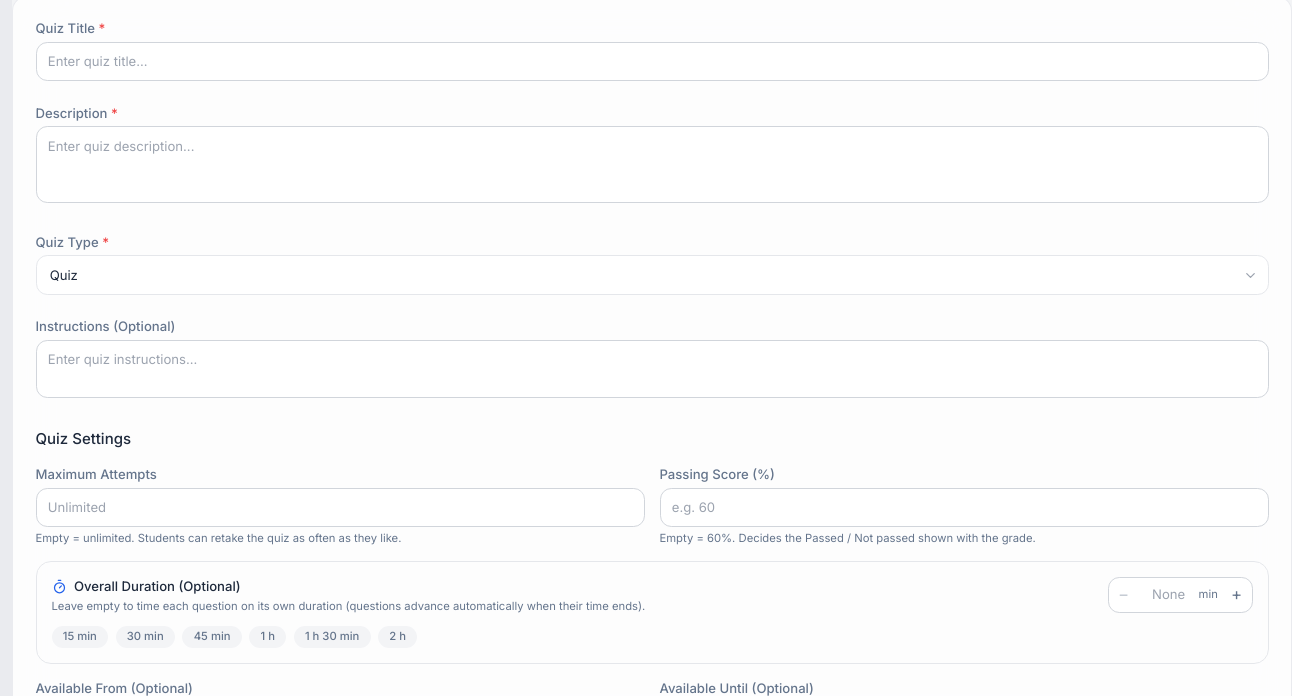
it: CreateQuizPage › surfaces server field errors inline and toasts
Type "Algebra" into the field labelled "Quiz Title *".
click(652, 62); type("Algebra")  # box x1=36 y1=42 x2=1268 y2=81
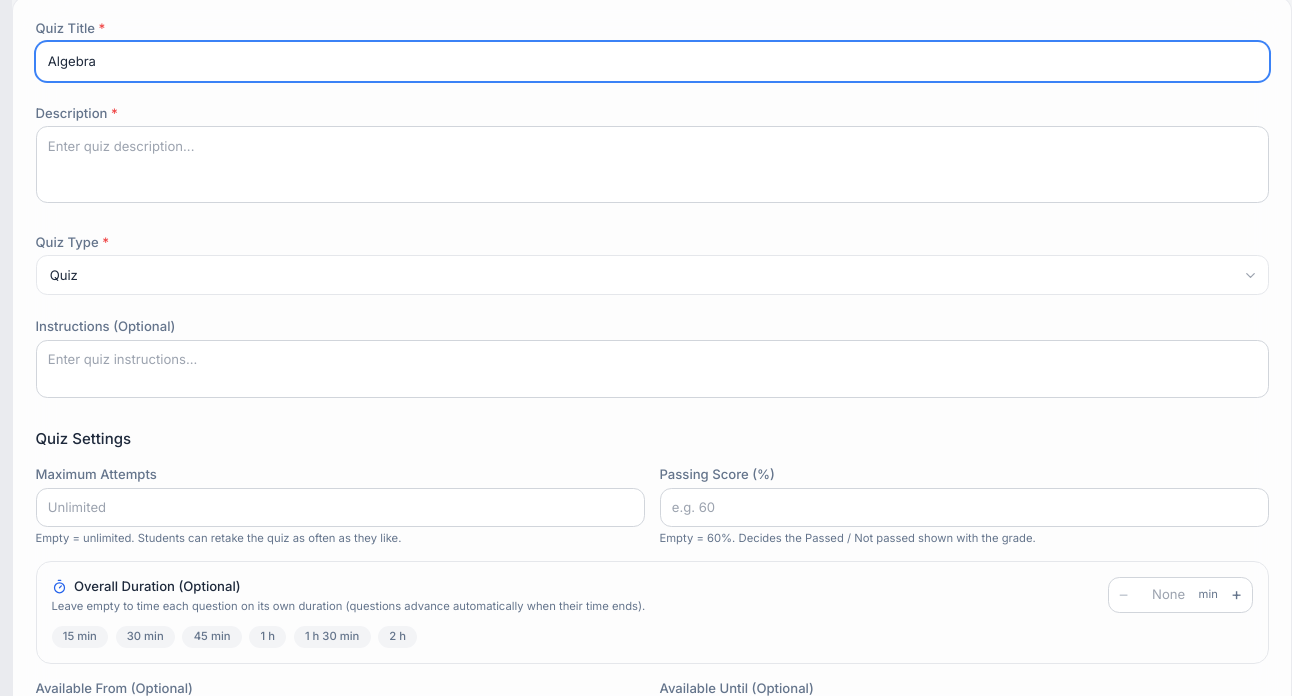
Type "Desc" into the text box labelled "Description *".
click(652, 165); type("Desc")  # box x1=36 y1=126 x2=1268 y2=203
(page scrolled)
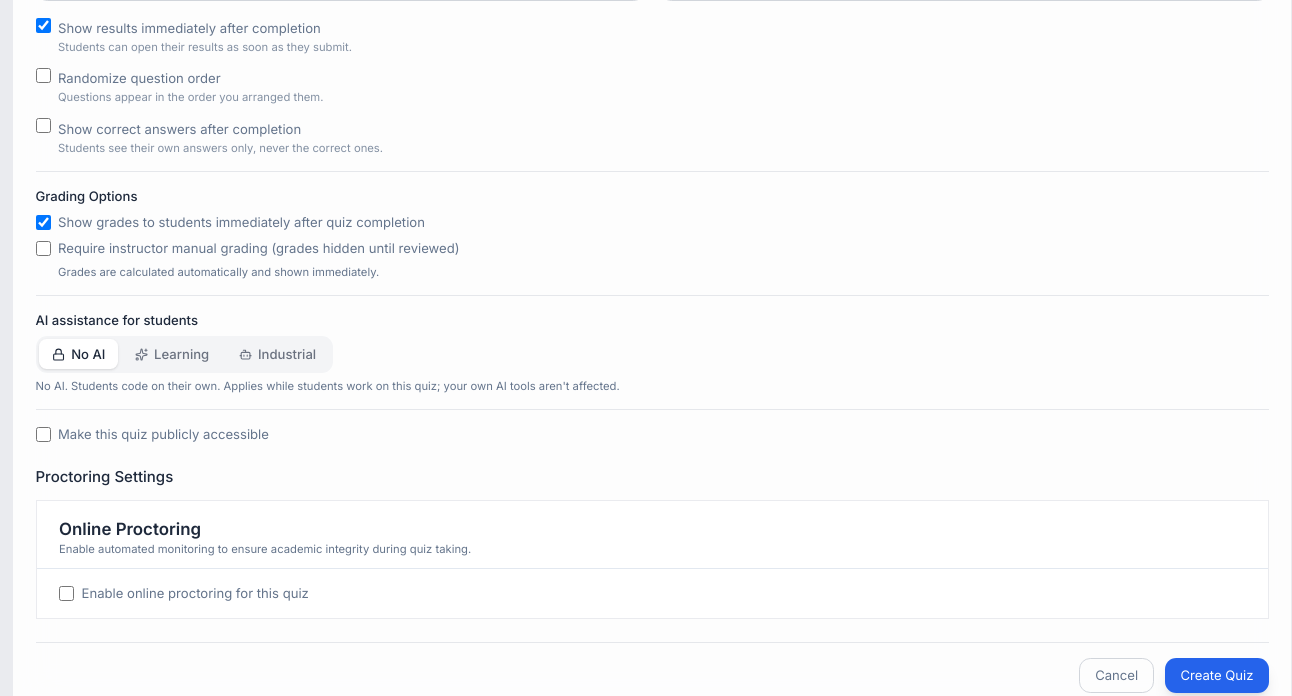
Click the button "Create Quiz".
click(1217, 675)  # box x1=1165 y1=658 x2=1268 y2=693
(page scrolled)
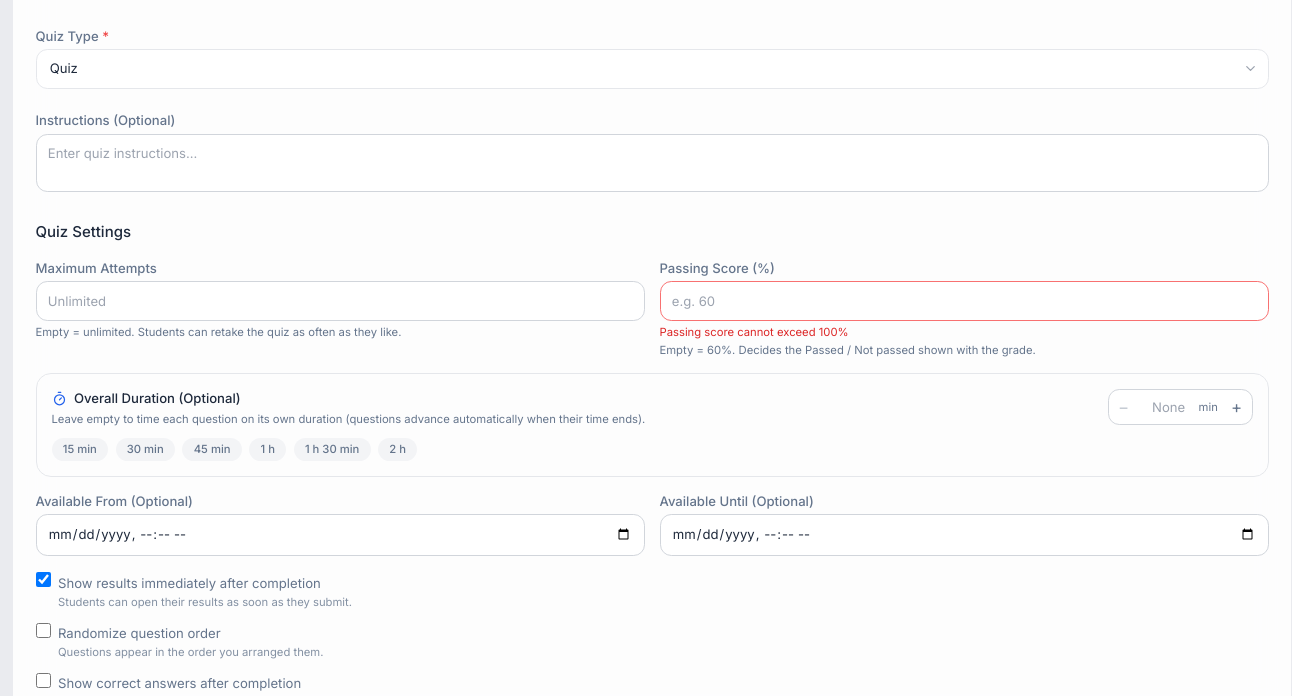
expect the text "Passing score cannot exceed 100%" is shown: met, box x1=660 y1=324 x2=848 y2=338
